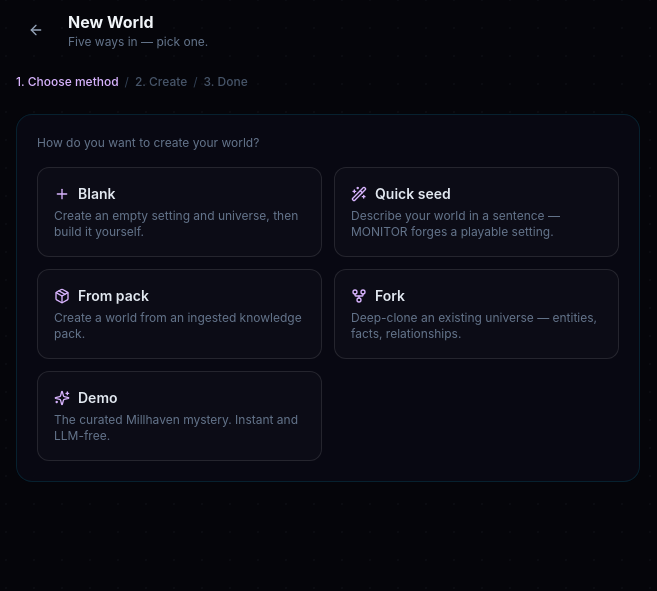
Test: World wizard — blank method › creates a universe in a picked setting and lands on the confirm step
Click the button with test id "method-blank" at (180, 212), box 37,167 -> 322,257
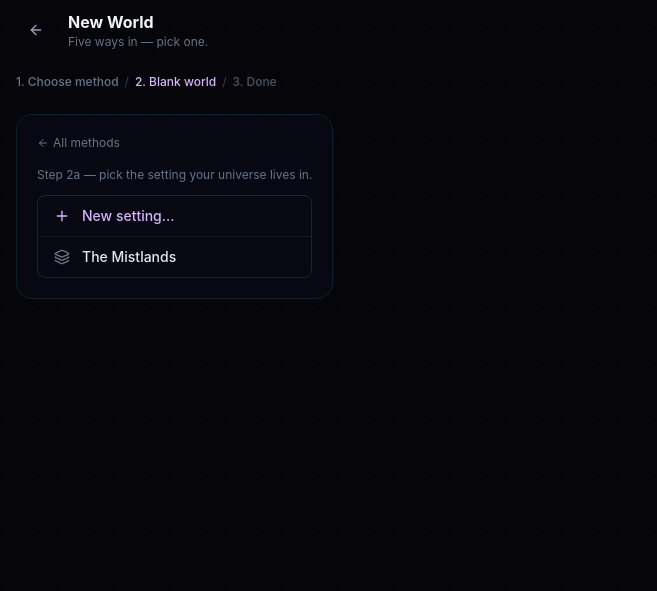
Note: Step 2a: pick the existing setting.
Click the button "The Mistlands" at (175, 256), box 38,236 -> 311,277
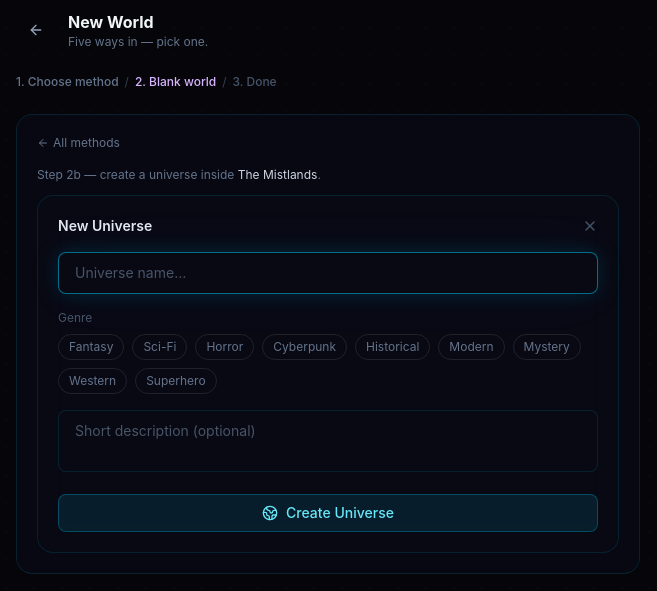
Note: Step 2b: the shared CreateUniverseForm appears.
Type "New Vale" into the field with placeholder "Universe name…" at (328, 273), box 58,252 -> 598,294
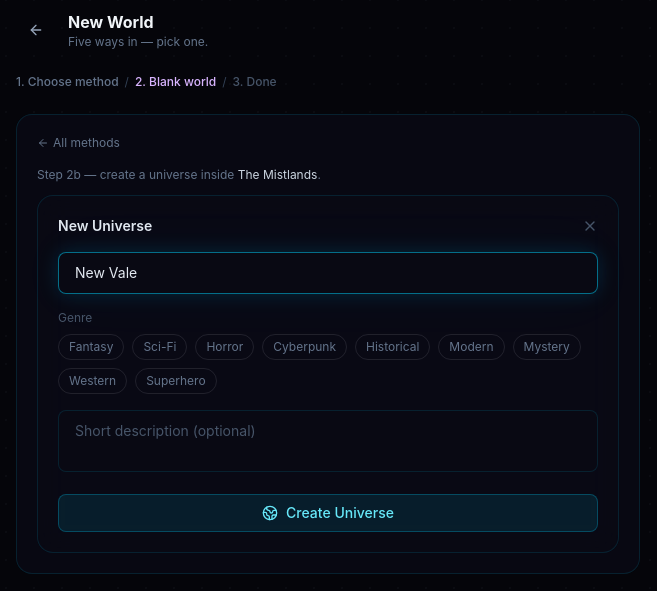
Click the button "Create Universe" at (328, 513), box 58,494 -> 598,532
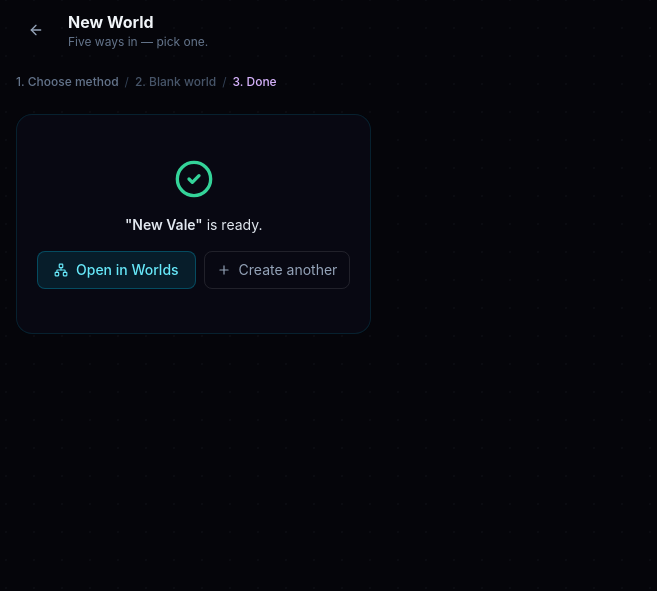
Expected: the text "\"New Vale\" is ready." is shown, 125,215 -> 262,235
